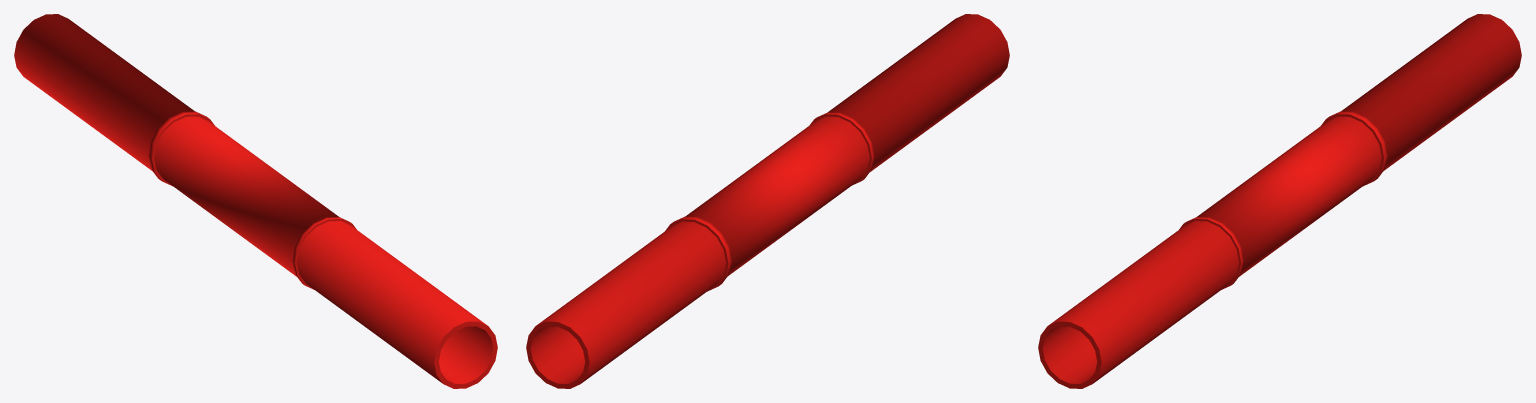
The model's file is Tuberia D.A.fbx.
3 renders of one model, left to right at view 1: azimuth 30°, elevation 25°; view 2: azimuth 150°, elevation 25°; view 3: azimuth 330°, elevation 25°, orthographic.
Visible parts, largest first — view 1: Tuberia D.A; view 2: Tuberia D.A; view 3: Tuberia D.A.
Boxes of the visible parts, box(x1,y1,x2,y2) form: Tuberia D.A: box(14, 14, 497, 388); Tuberia D.A: box(526, 14, 1009, 388); Tuberia D.A: box(1038, 14, 1521, 388).
Size of the model in its own units: 0.15 by 0.15 by 1.6.
